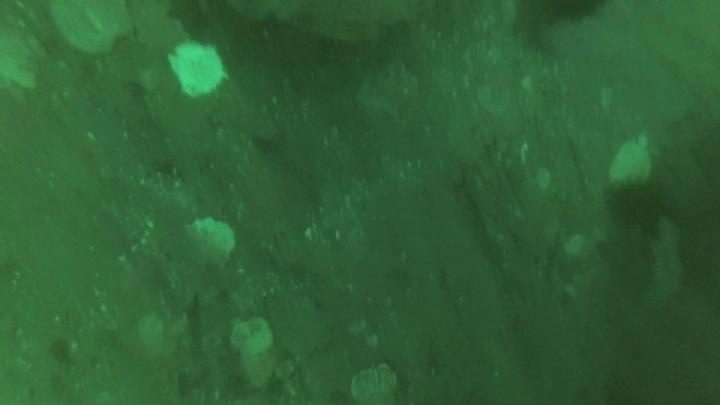echinus: (510, 1, 610, 38), (606, 179, 668, 231)
scallop: (47, 1, 134, 58), (347, 362, 403, 405)
